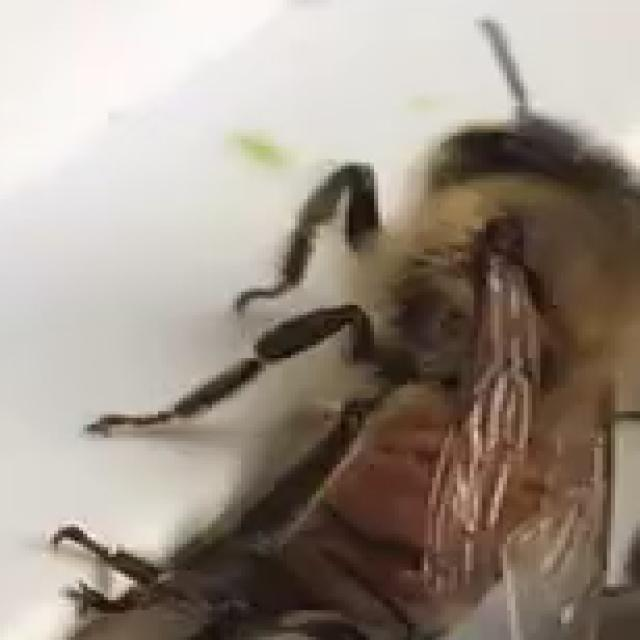honeybee: (174, 93, 640, 640)
